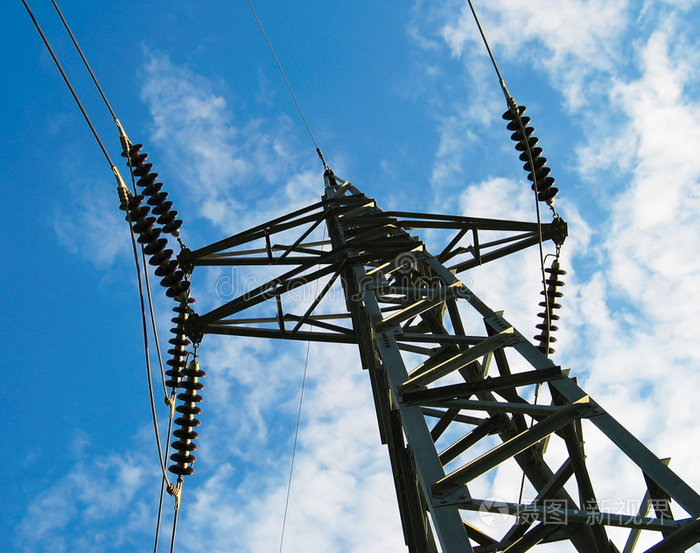insulator: (122, 193, 191, 299), (501, 104, 557, 201), (124, 140, 179, 234), (167, 363, 205, 477), (537, 265, 569, 352), (163, 306, 194, 389)
